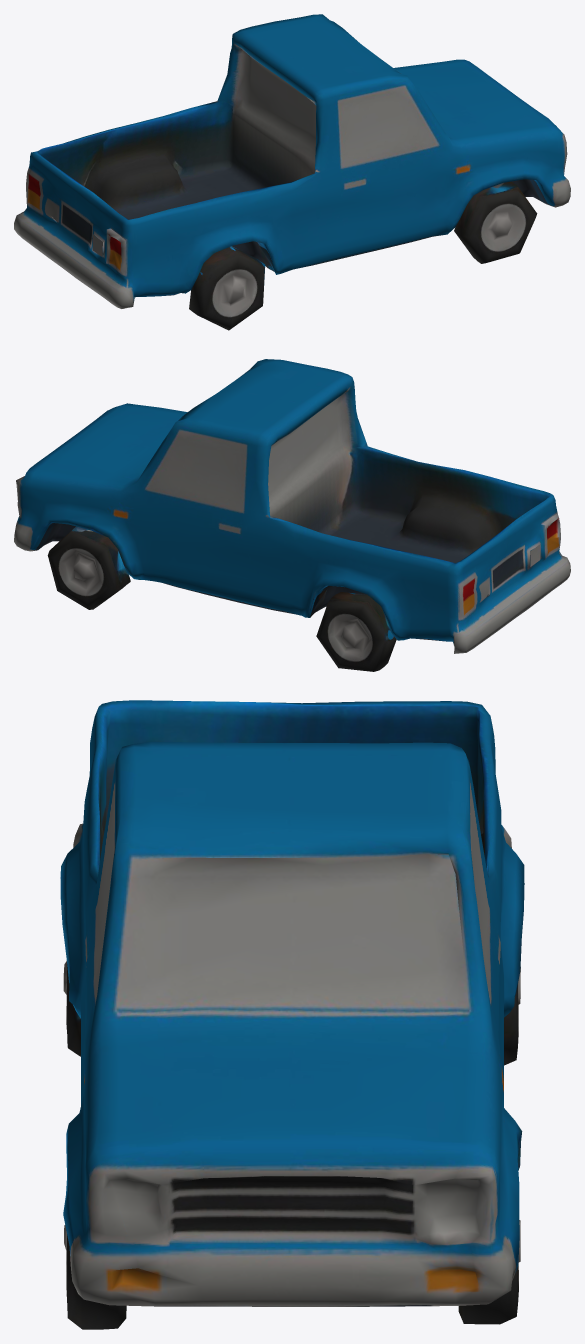
File: camioneta.fbx
3 views of the same model, one above another, from view 1: azimuth 30°, elevation 25°; view 2: azimuth 150°, elevation 25°; view 3: azimuth 270°, elevation 25° (orthographic). The views are drawn at different scales.
Parts seen in each view (by area): view 1: tripo_node_9399bd16; view 2: tripo_node_9399bd16; view 3: tripo_node_9399bd16.
Boxes of the visible parts, box(x1,y1,x2,y2) form: tripo_node_9399bd16: box(14, 14, 570, 330); tripo_node_9399bd16: box(14, 359, 570, 671); tripo_node_9399bd16: box(60, 700, 524, 1329).
Bounding box in the file's own units: 0.9996 × 0.4337 × 0.4417.
1 material, 1 textured.
